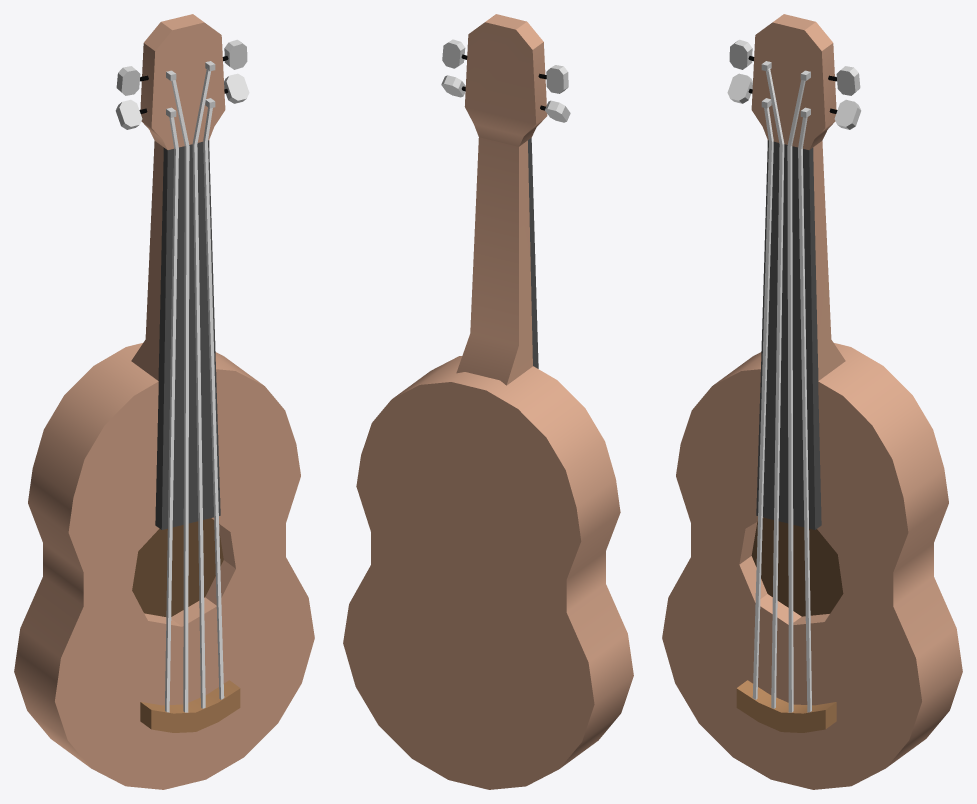
The model's file is Asset_Ukulele_01.fbx.
3 renders of one model, left to right at view 1: azimuth 30°, elevation 25°; view 2: azimuth 150°, elevation 25°; view 3: azimuth 330°, elevation 25°, orthographic. The views are drawn at different scales.
Visible parts, largest first — view 1: Asset_Ukulele_01; view 2: Asset_Ukulele_01; view 3: Asset_Ukulele_01.
Boxes of the visible parts, x1,y1,x2,y2 form: Asset_Ukulele_01: [14, 14, 314, 789]; Asset_Ukulele_01: [343, 14, 633, 789]; Asset_Ukulele_01: [662, 14, 962, 789].
Size of the model in its own units: 28.29 by 79.09 by 9.76.
